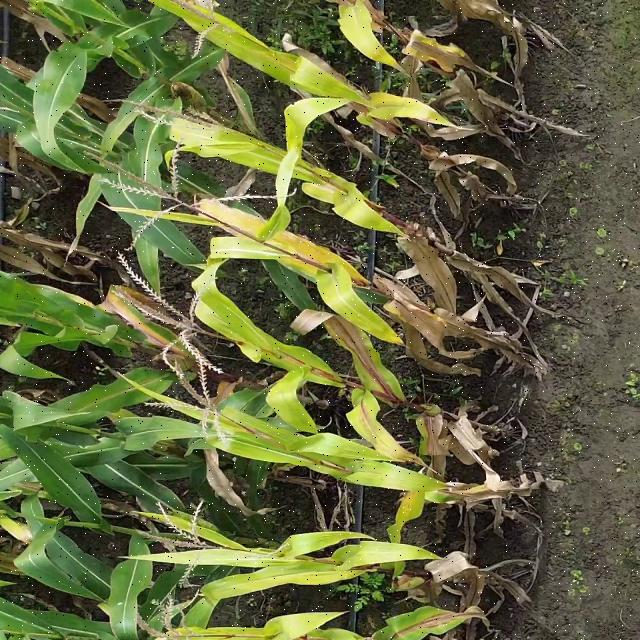northern-leaf-blight: (97, 283, 197, 370), (351, 402, 432, 478)
